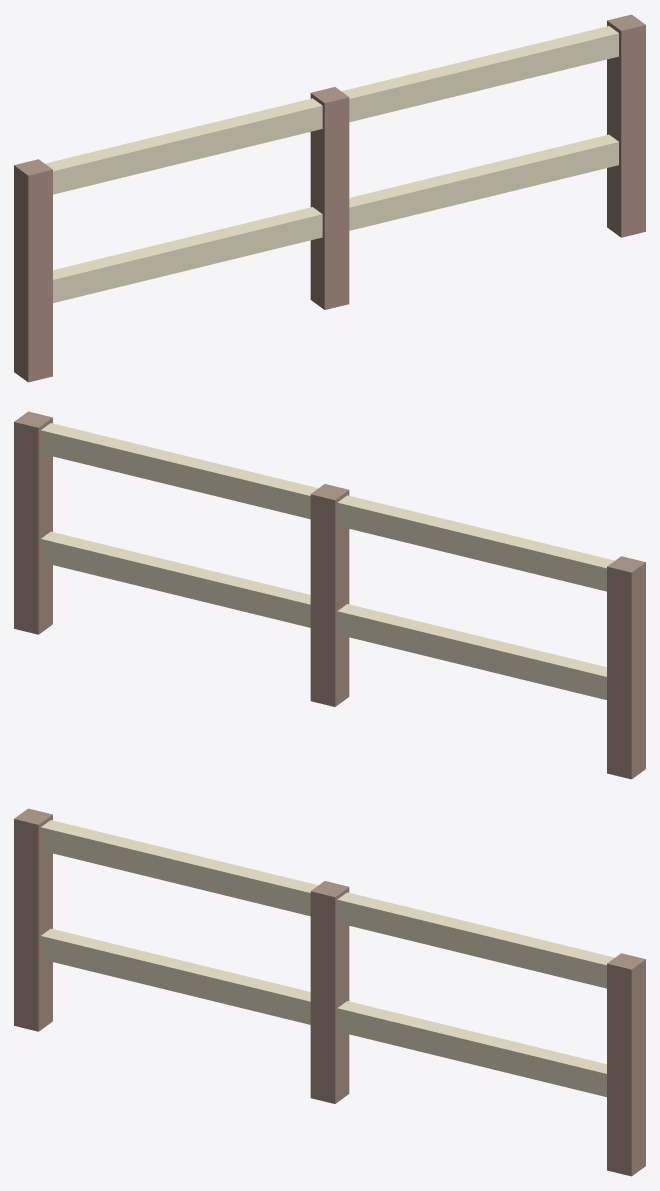
The model's file is 06_Railing_12.glb.
3 views of the same model, one above another, from view 1: azimuth 30°, elevation 25°; view 2: azimuth 150°, elevation 25°; view 3: azimuth 330°, elevation 25° (orthographic).
Visible parts, largest first — view 1: 06_Railing_12; view 2: 06_Railing_12; view 3: 06_Railing_12.
Boxes of the visible parts, bbox=[...] form: 06_Railing_12: bbox=[14, 14, 645, 382]; 06_Railing_12: bbox=[14, 411, 645, 779]; 06_Railing_12: bbox=[14, 808, 645, 1176].
Size of the model in its own units: 12.5 by 4 by 0.5.
